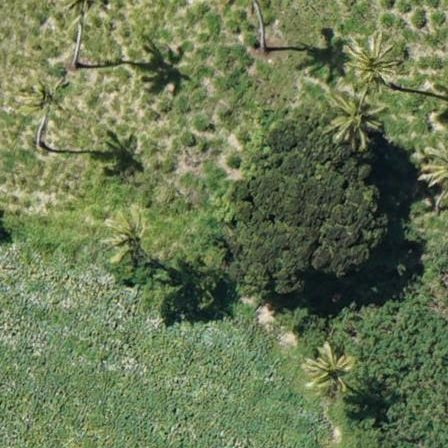palm_tree: (321, 90, 382, 154), (343, 32, 402, 95), (298, 340, 355, 402), (104, 206, 151, 263)
